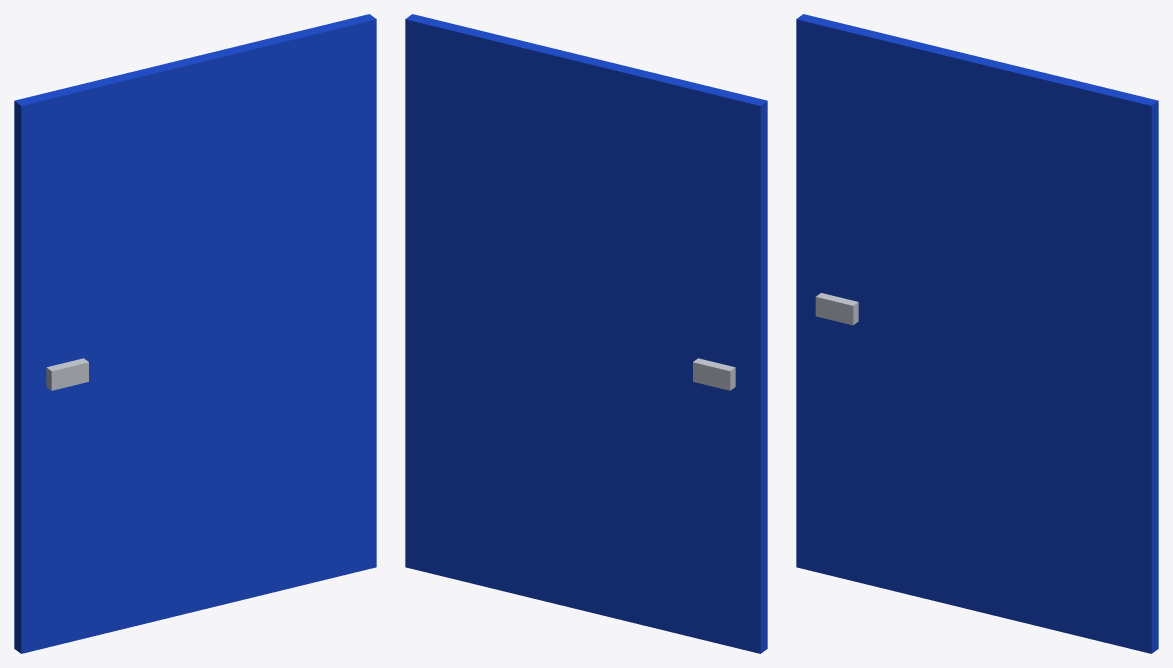
The model's file is door.glb.
3 views of the same model, side by side, from view 1: azimuth 30°, elevation 25°; view 2: azimuth 150°, elevation 25°; view 3: azimuth 330°, elevation 25° (orthographic).
Visible parts, largest first — view 1: door; view 2: door; view 3: door.
Boxes of the visible parts, x1,y1,x2,y2 form: door: (14, 14, 376, 653); door: (405, 14, 767, 653); door: (796, 14, 1158, 653).
Bounding box in the file's own units: 1.14 × 1.68 × 0.1.
1 material, 1 textured.
